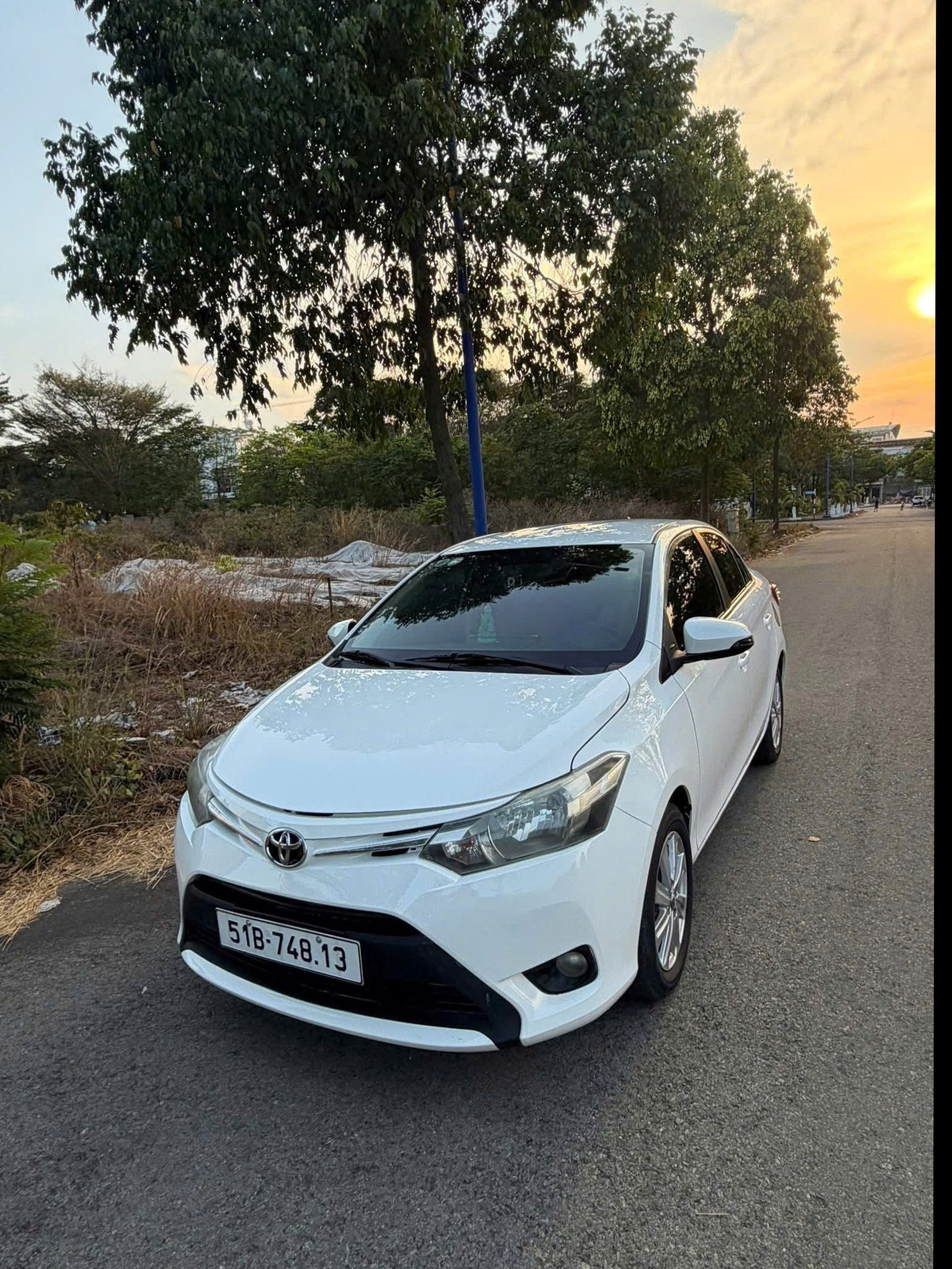Bien-so: (241, 874, 390, 947)
